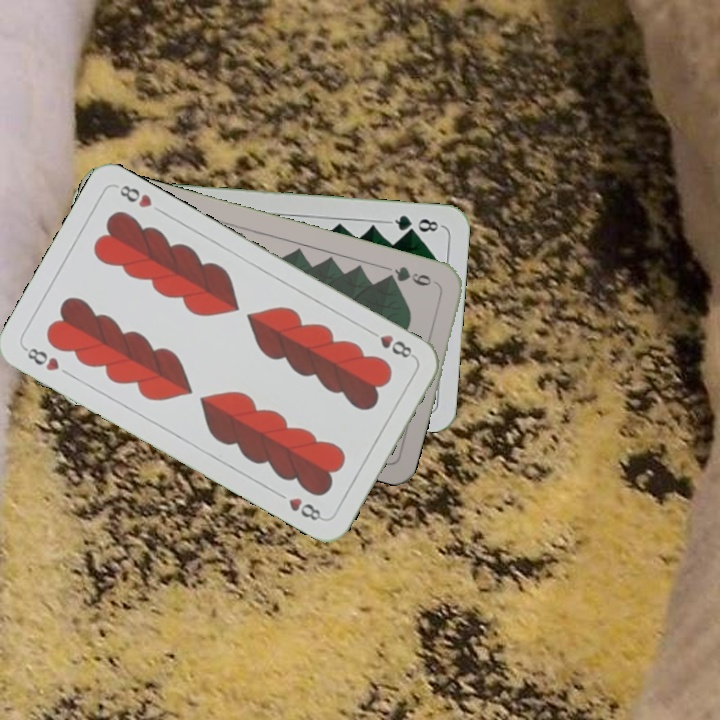G8: (385, 211, 444, 236)
G9: (381, 262, 441, 289)
H8: (364, 325, 418, 361), (20, 343, 62, 374)
